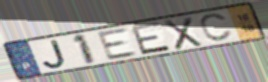1: (72, 32, 100, 66)
C: (198, 12, 235, 43)
E: (96, 26, 141, 62), (129, 20, 173, 56)
J: (42, 38, 68, 69)
X: (162, 16, 205, 52)
